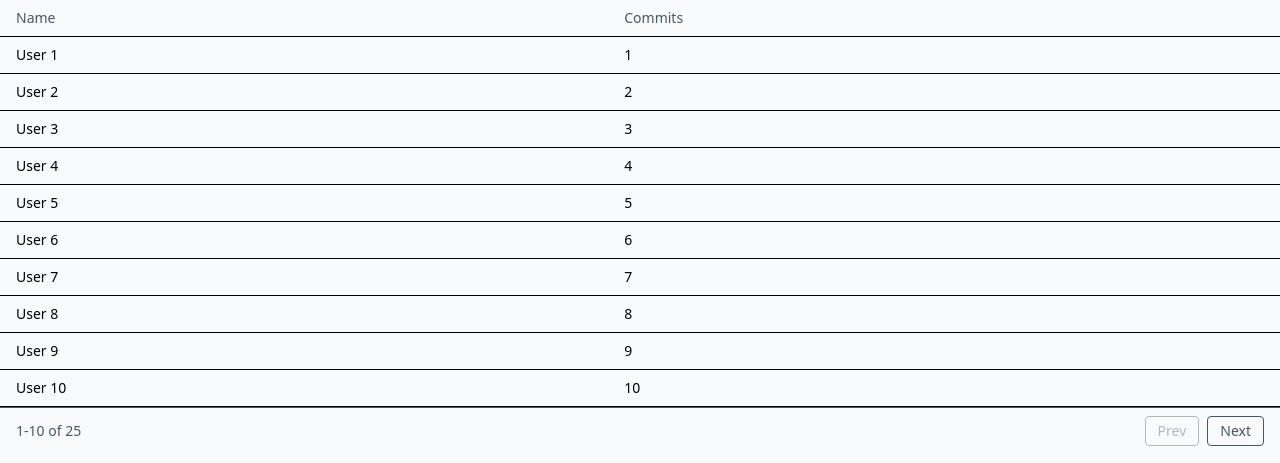
DataTable › pagination › resets page on sort change
Click the button "Next": (1236, 431) 1207,416 -> 1264,446
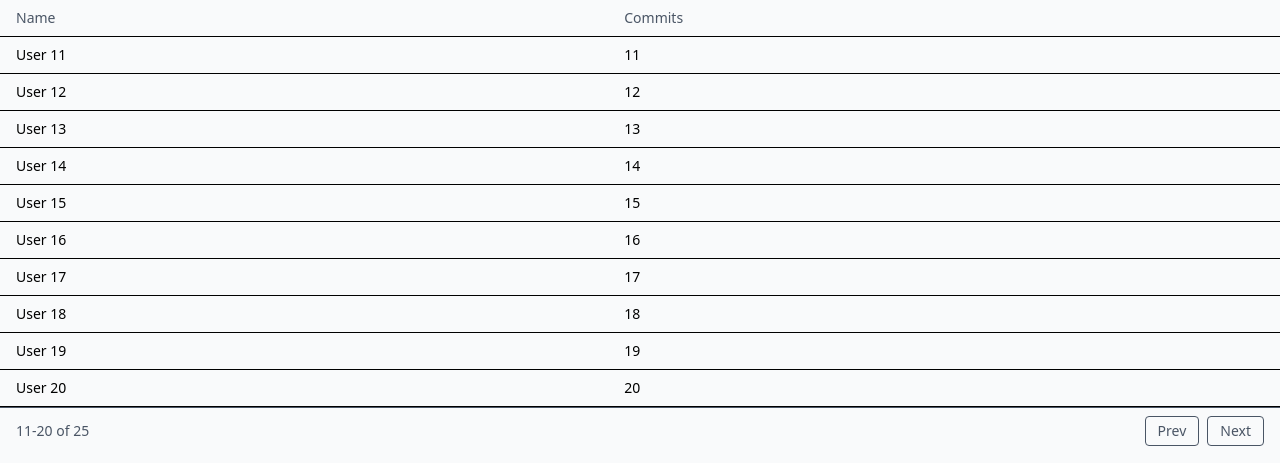
Expected: the text "11-20 of 25" is shown, 16,421 -> 89,441
Click the column heading "Name": (36, 18) 0,0 -> 608,36
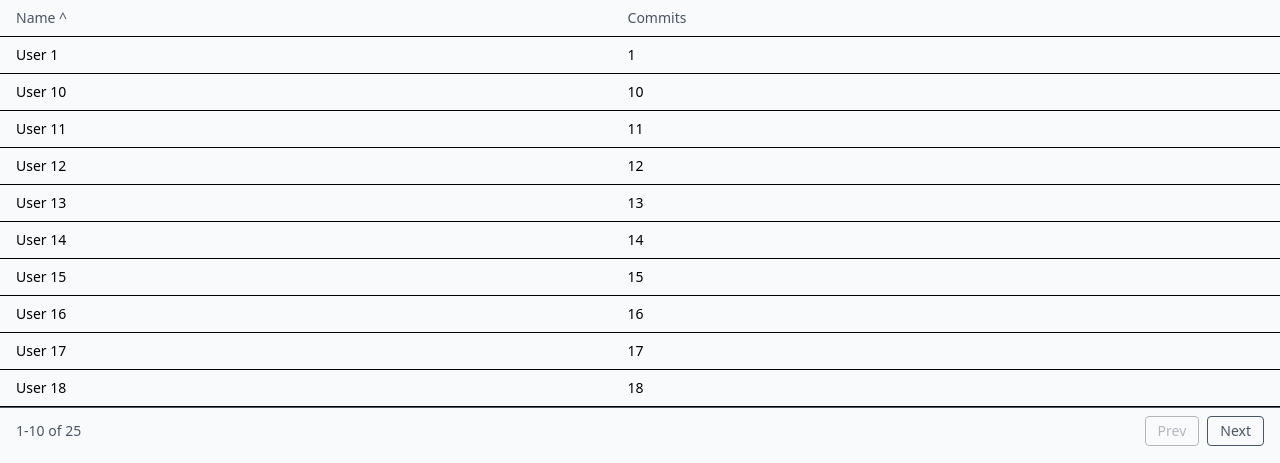
Expected: the text "1-10 of 25" is shown, 16,421 -> 81,441
